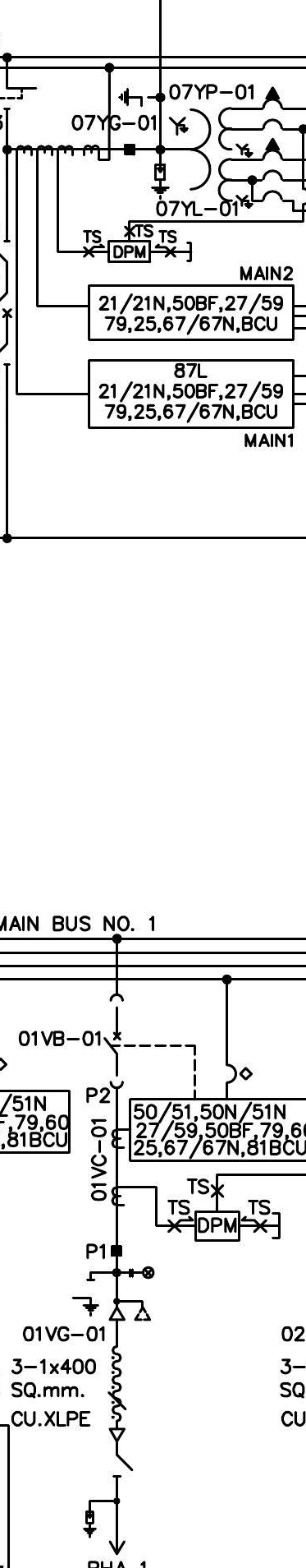115_gs: (117, 87, 151, 108)
115_la: (150, 163, 171, 201)
115_vt_3p: (168, 86, 284, 209)
22_breaker: (103, 993, 124, 1089)
22_ds_la_out: (82, 1454, 134, 1556)
22_gs: (71, 1278, 100, 1318)
22_ll: (128, 1266, 156, 1280)
DPM: (194, 1210, 241, 1242), (107, 240, 151, 263)
terminator_single: (108, 1427, 126, 1442)
terminator_w_future: (108, 1299, 152, 1322)
